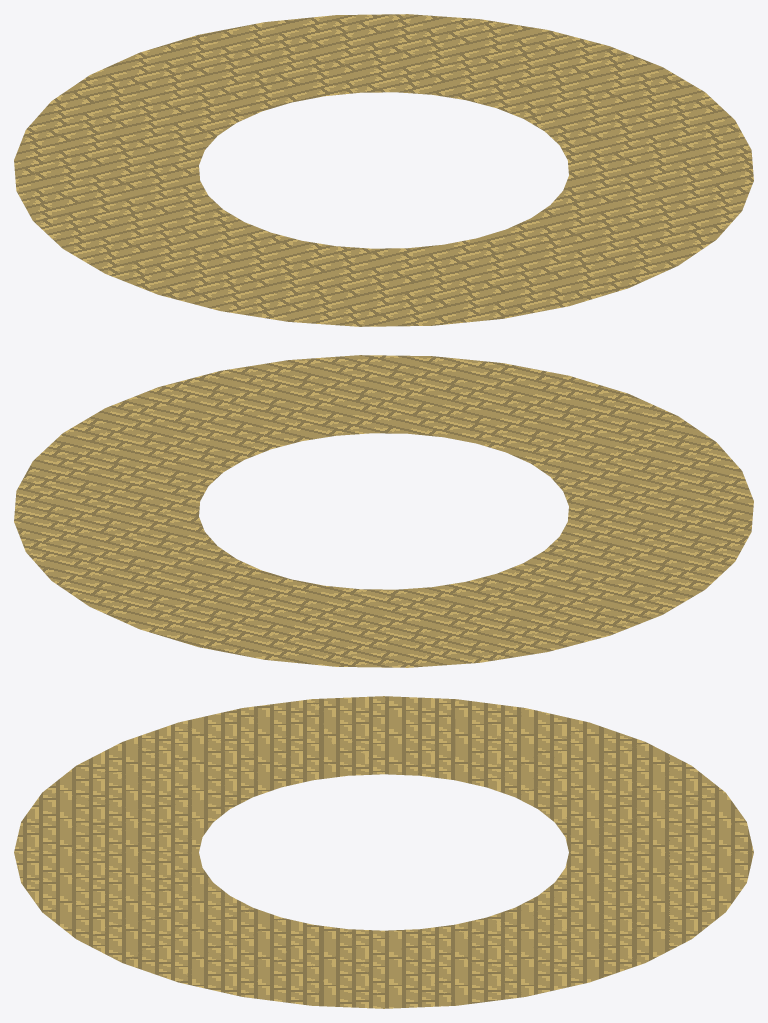
The model's file is roof.fbx.
3 renders of one model, top to bottom at view 1: azimuth 30°, elevation 25°; view 2: azimuth 150°, elevation 25°; view 3: azimuth 270°, elevation 25°, orthographic.
Visible parts, largest first — view 1: Circle; view 2: Circle; view 3: Circle.
Part boxes in pixels (bbox=[...]): Circle: bbox=[14, 14, 753, 326]; Circle: bbox=[14, 355, 753, 667]; Circle: bbox=[14, 696, 753, 1008].
Bounding box in the file's own units: 400 × 6.52e-05 × 400.
